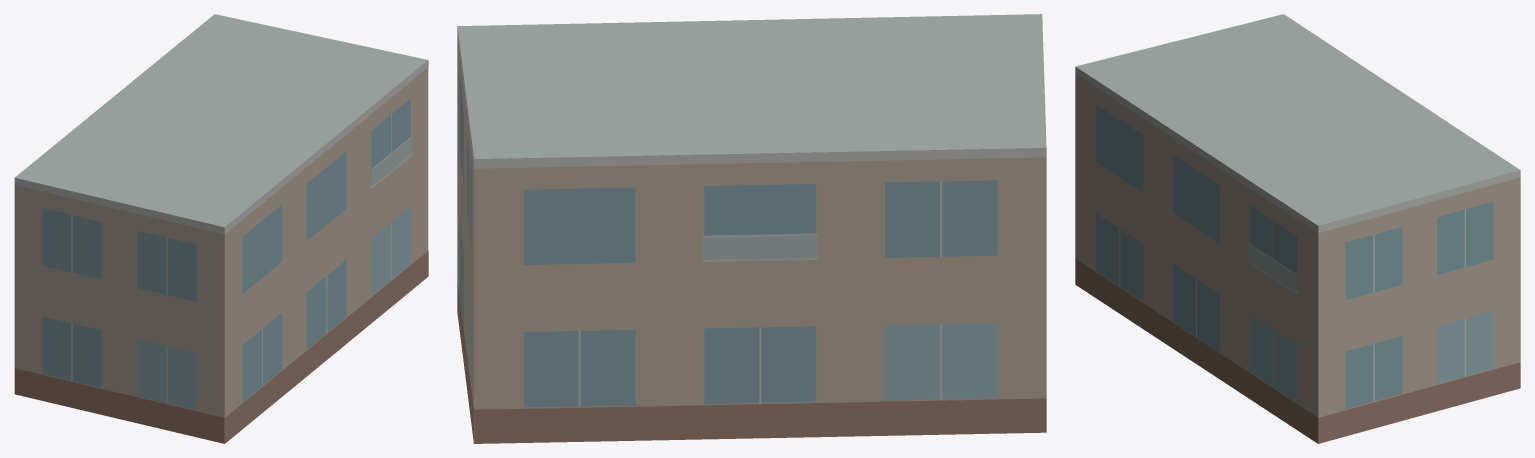
Rendered from survey-upis-33007028.glb.
3 views of the same model, side by side, from view 1: azimuth 30°, elevation 25°; view 2: azimuth 150°, elevation 25°; view 3: azimuth 270°, elevation 25° (orthographic). The views are drawn at different scales.
Parts seen in each view (by area): view 1: survey-upis-33007028.tmp; view 2: survey-upis-33007028.tmp; view 3: survey-upis-33007028.tmp.
Part boxes in pixels (<box>): survey-upis-33007028.tmp: <box>14,14,428,443</box>; survey-upis-33007028.tmp: <box>457,14,1046,443</box>; survey-upis-33007028.tmp: <box>1075,14,1520,443</box>.
Bounding box in the file's own units: 15.21 × 7.3 × 13.52.
